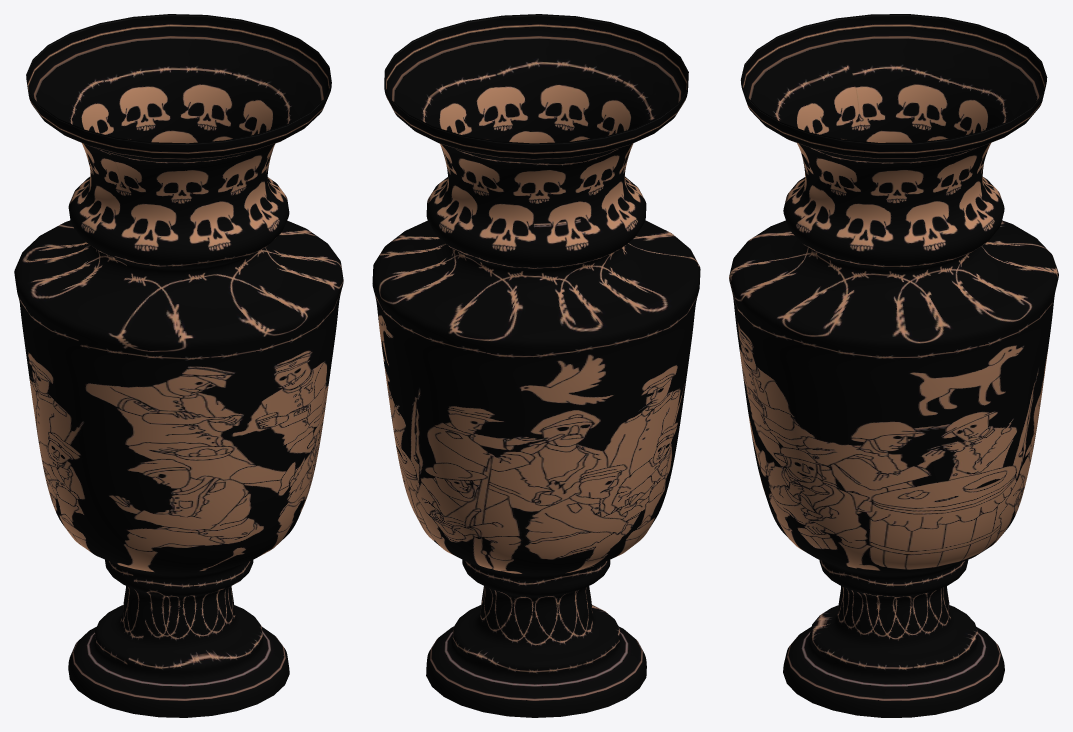
File: calmbeforethestorm.glb
3 views of the same model, side by side, from view 1: azimuth 30°, elevation 25°; view 2: azimuth 150°, elevation 25°; view 3: azimuth 270°, elevation 25° (orthographic).
Parts seen in each view (by area): view 1: NurbsPath.001; view 2: NurbsPath.001; view 3: NurbsPath.001.
Boxes of the visible parts, <box> form: NurbsPath.001: <box>14,14,343,717</box>; NurbsPath.001: <box>372,14,700,717</box>; NurbsPath.001: <box>729,14,1058,717</box>.
Size of the model in its own units: 1.71 by 3.4 by 1.72.
1 material, 1 textured.
